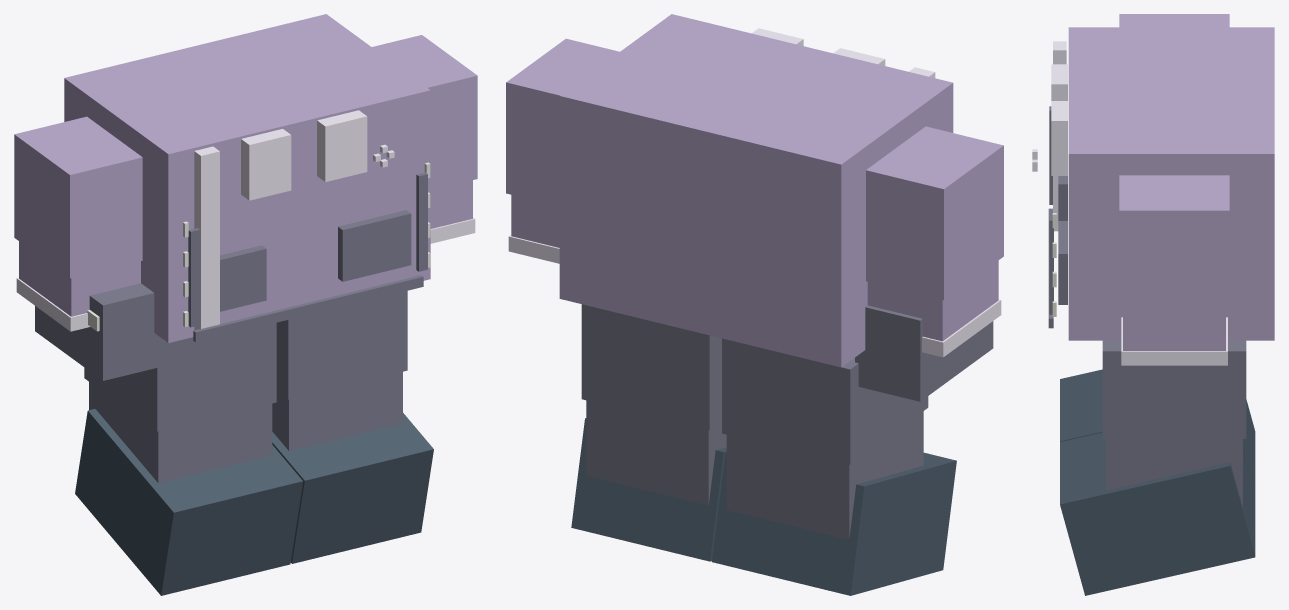
File: student-lavender.glb
The picture shows the model from 3 angles, left to right: view 1: azimuth 30°, elevation 25°; view 2: azimuth 150°, elevation 25°; view 3: azimuth 270°, elevation 25°; orthographic projection. The views are drawn at different scales.
Parts seen in each view (by area): view 1: jacket, shoe-Right, upper-sleeve-Right, shoe-Left, trouser-Right, trouser-Left, lower-trouser-Right, upper-sleeve-Left, satchel, lower-trouser-Left, pocket-1, satchel-strap (+10 smaller); view 2: jacket, upper-sleeve-Right, shoe-Right, trouser-Right, trouser-Left, lower-trouser-Right, lower-trouser-Left, upper-sleeve-Left, shoe-Left, satchel, lower-sleeve-Right, lower-sleeve-Left (+2 smaller); view 3: jacket, shoe-Left, upper-sleeve-Left, trouser-Left, lower-trouser-Left, lower-sleeve-Left, shoe-Right, cuff-Left, upper-sleeve-Right, lapel-1, pocket-1, lapel--1 (+3 smaller).
Part boxes in pixels (bbox=[...]): jacket: bbox=[64, 14, 430, 342]; shoe-Right: bbox=[75, 409, 302, 595]; upper-sleeve-Right: bbox=[14, 116, 142, 278]; shoe-Left: bbox=[272, 413, 433, 563]; trouser-Right: bbox=[84, 322, 276, 431]; trouser-Left: bbox=[276, 290, 407, 399]; lower-trouser-Right: bbox=[89, 382, 272, 482]; upper-sleeve-Left: bbox=[372, 35, 477, 190]; satchel: bbox=[35, 283, 163, 380]; lower-trouser-Left: bbox=[272, 372, 402, 451]; pocket-1: bbox=[338, 210, 411, 281]; satchel-strap: bbox=[194, 146, 219, 330]; jacket: bbox=[559, 14, 953, 367]; upper-sleeve-Right: bbox=[866, 126, 1003, 300]; shoe-Right: bbox=[712, 452, 956, 595]; trouser-Right: bbox=[722, 338, 928, 464]; trouser-Left: bbox=[581, 304, 721, 430]; lower-trouser-Right: bbox=[726, 411, 923, 539]; lower-trouser-Left: bbox=[586, 400, 726, 505]; upper-sleeve-Left: bbox=[506, 38, 619, 206]; shoe-Left: bbox=[571, 418, 726, 561]; satchel: bbox=[855, 305, 993, 401]; lower-sleeve-Right: bbox=[867, 260, 998, 341]; lower-sleeve-Left: bbox=[511, 195, 559, 247]; jacket: bbox=[1068, 27, 1274, 340]; shoe-Left: bbox=[1060, 432, 1255, 595]; upper-sleeve-Left: bbox=[1119, 175, 1229, 312]; trouser-Left: bbox=[1102, 340, 1246, 438]; lower-trouser-Left: bbox=[1106, 439, 1242, 507]; lower-sleeve-Left: bbox=[1123, 312, 1225, 350]; shoe-Right: bbox=[1060, 369, 1255, 493]; cuff-Left: bbox=[1121, 317, 1227, 365]; upper-sleeve-Right: bbox=[1119, 14, 1229, 27]; lapel-1: bbox=[1051, 101, 1067, 175]; pocket-1: bbox=[1058, 221, 1067, 304]; lapel--1: bbox=[1051, 64, 1067, 100].
Size of the model in its own units: 1.07 by 1.13 by 0.559.
